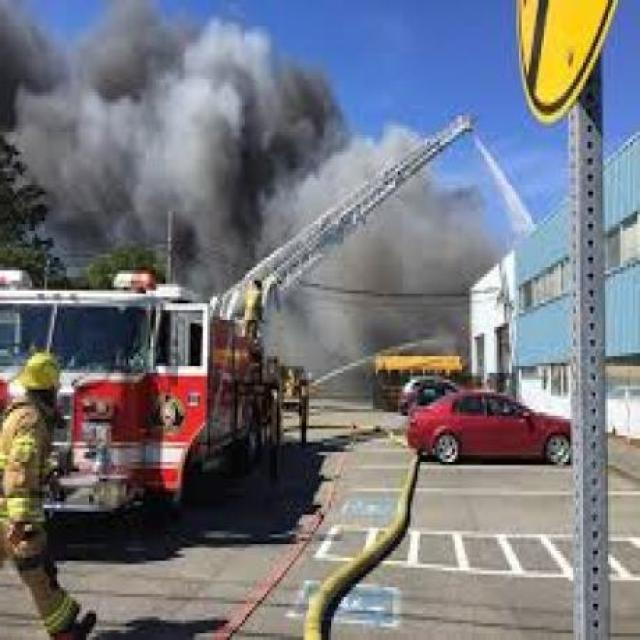Smoke: (3, 0, 339, 279), (336, 138, 494, 366)
